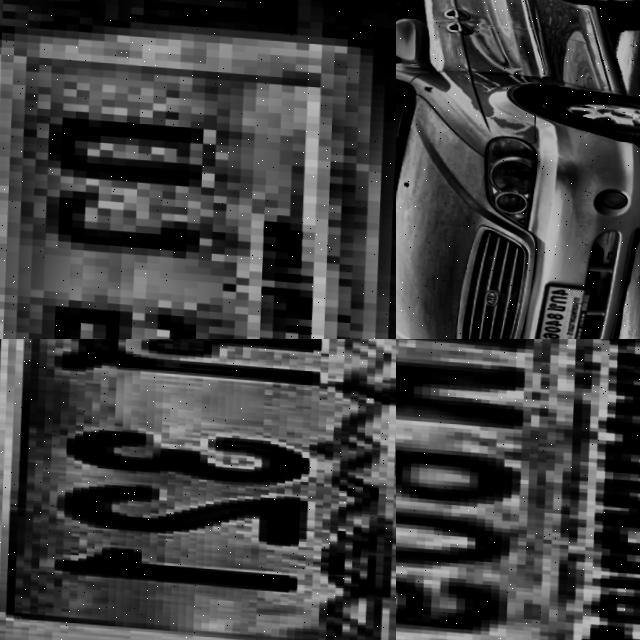license-plate: (0, 10, 396, 339), (0, 339, 396, 640), (396, 339, 640, 640), (531, 278, 591, 339)
